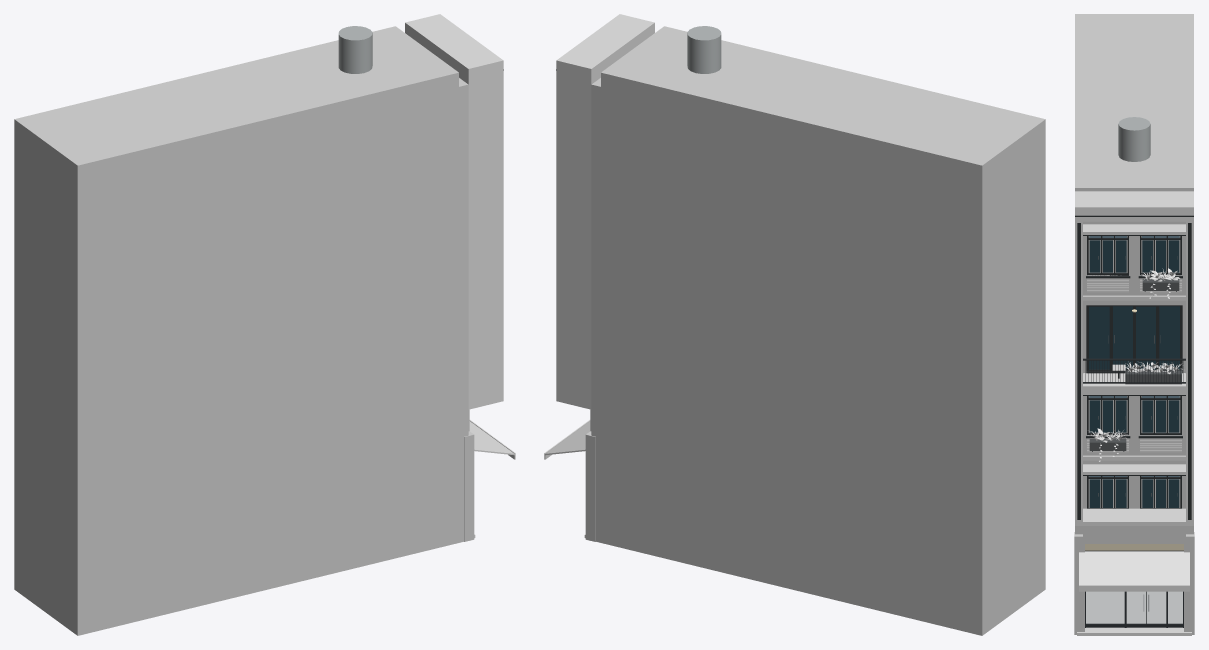
The model's file is OW_Mau_NhaPho_4_5_1_B.fbx.
3 renders of one model, left to right at view 1: azimuth 30°, elevation 25°; view 2: azimuth 150°, elevation 25°; view 3: azimuth 270°, elevation 25°, orthographic. The views are drawn at different scales.
Parts seen in each view (by area): view 1: OW_NhaPho_9003; view 2: OW_NhaPho_9003; view 3: OW_NhaPho_9003, OW_MatTienKinh.
Boxes of the visible parts, <box> form: OW_NhaPho_9003: <box>14,14,515,635</box>; OW_NhaPho_9003: <box>544,14,1045,635</box>; OW_NhaPho_9003: <box>1074,14,1194,635</box>; OW_MatTienKinh: <box>1085,544,1183,627</box>.
Bounding box in the file's own units: 17.77 × 19.45 × 4.5.
